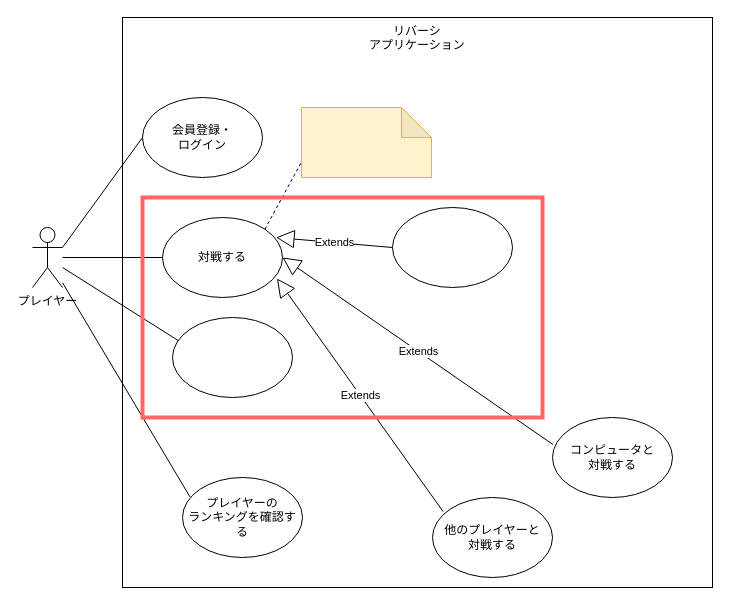
Image size: 730x605. Some labels were removed from this diagram. The shapes that lost their labels are listed below. From the top down, each one's box as (x1, y1, x2, y2) in pixels, then its label:
(300, 106, 432, 178): ・対戦を開始する ・盤面を見る ・石を打つ ・勝敗を確認する
(392, 206, 512, 288): 一人で黒白 交互に打つ
(172, 316, 292, 398): 過去の対戦結果を確認する
